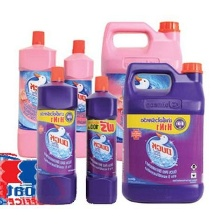cleaning_solution: (99, 16, 184, 165), (121, 58, 207, 205), (33, 64, 79, 207), (17, 29, 57, 161), (83, 73, 119, 206), (60, 35, 94, 160)
